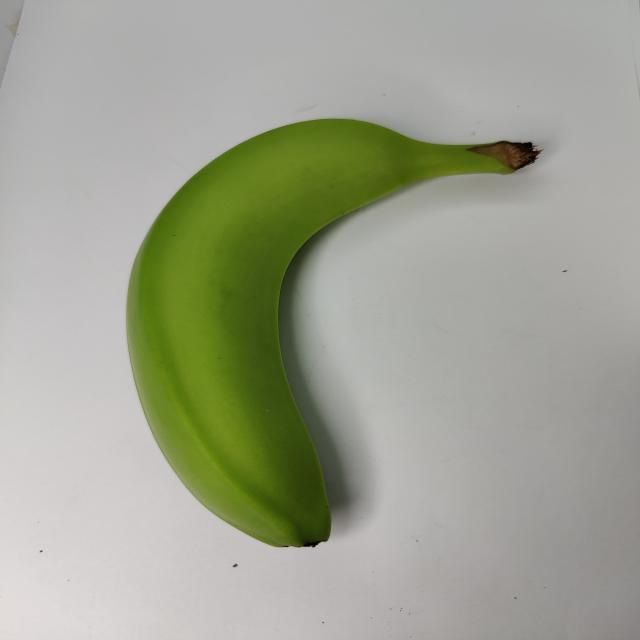raw: (87, 82, 559, 566)
